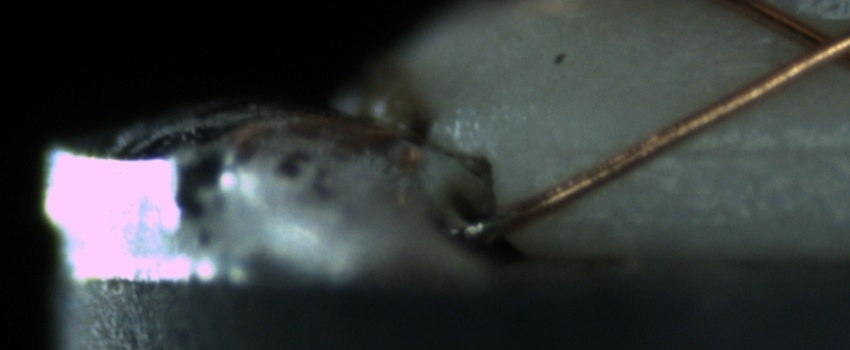CL: (776, 10, 849, 79)
DL: (550, 118, 850, 181)
